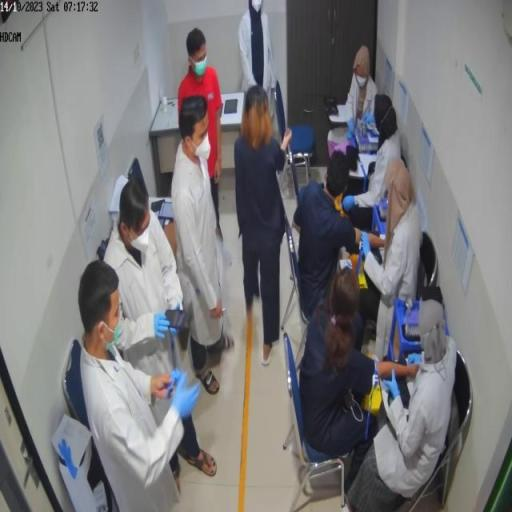person: (103, 177, 217, 476), (80, 260, 217, 507), (299, 267, 419, 497), (346, 299, 458, 510), (173, 96, 236, 398), (236, 87, 295, 368), (292, 152, 388, 322), (360, 161, 423, 324), (178, 29, 224, 244), (343, 98, 402, 226), (239, 2, 278, 121), (346, 46, 379, 135)
